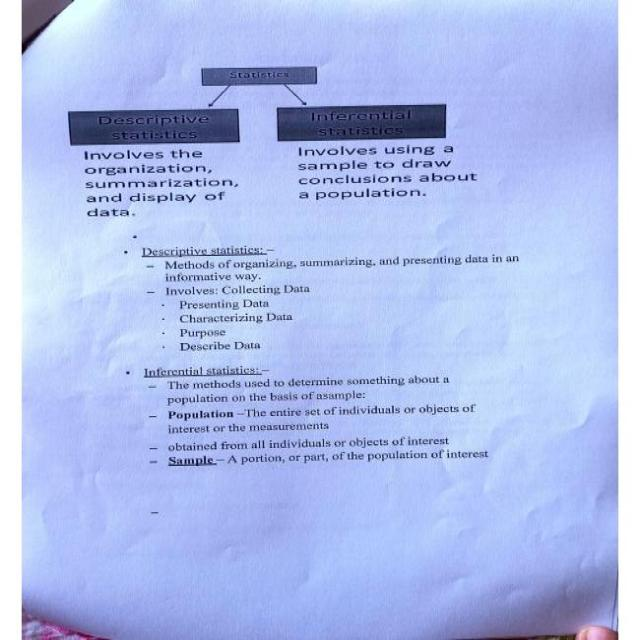Figure Detection - v3 Dataset Version2: (61, 59, 454, 148)
